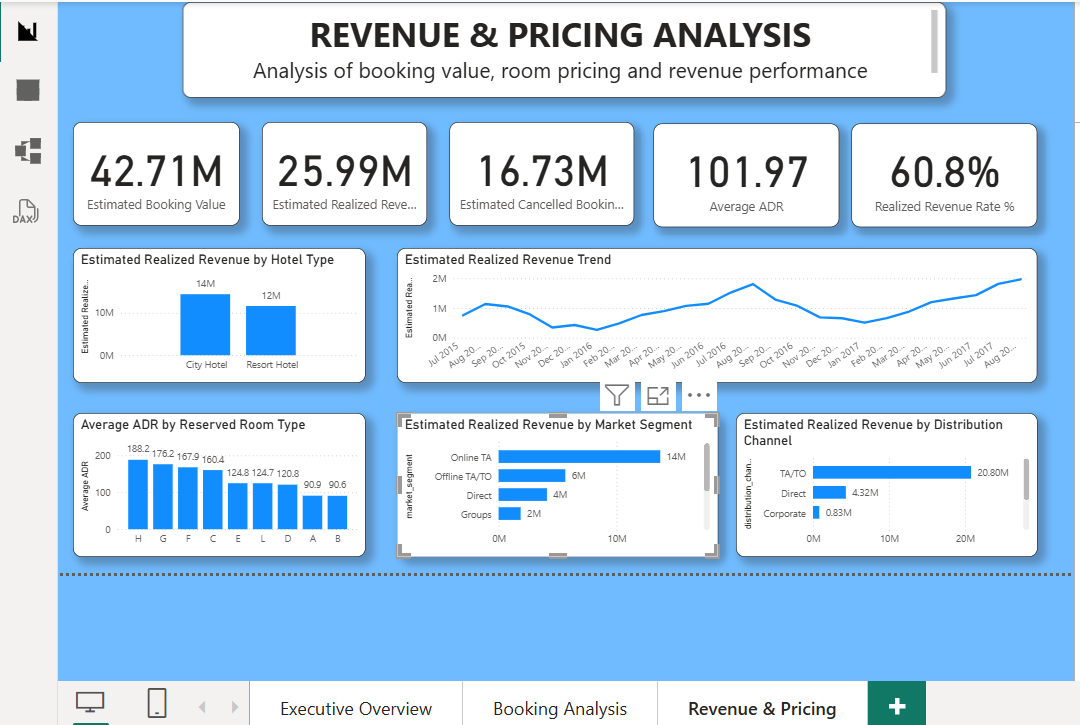

This screenshot's page, from the dashboard's own definition file:
{"tool":"powerbi","page":{"name":"Revenue & Pricing","canvas":[1280,720],"ordinal":2},"visuals":[{"type":"textbox","box":[156.9,0,961.9,120.9],"z":0},{"type":"card","fields":{"Values":["DimCountry.Estimated Revenue"]},"box":[18.9,151.2,209.8,130.4],"z":1},{"type":"card","fields":{"Values":["DimCountry.Estimated Realized Revenue"]},"box":[257,151.2,207.9,130.4],"z":2},{"type":"card","fields":{"Values":["DimCountry.Estimated Cancelled Booking Value"]},"box":[493.2,151.2,232.4,130.4],"z":3},{"type":"card","fields":{"Values":["FactBookings.Average ADR"]},"box":[750.2,153.1,234.3,130.4],"z":4},{"type":"clusteredColumnChart","title":"Estimated Realized Revenue by Hotel Type","fields":{"Category":["DimHotel.hotel"],"Y":["DimCountry.Estimated Realized Revenue"]},"box":[18.9,309.9,368.5,170.1],"z":5},{"type":"clusteredColumnChart","title":"Average ADR by Reserved Room Type","fields":{"Category":["DimRoomType.reserved_room_type"],"Y":["FactBookings.Average ADR"]},"box":[18.9,517.8,368.5,181.4],"z":6},{"type":"lineChart","title":"Estimated Realized Revenue Trend","fields":{"Category":["DimDate.Year - Month"],"Y":["DimCountry.Estimated Realized Revenue"]},"box":[427.1,309.9,806.9,170.1],"z":7},{"type":"clusteredBarChart","title":"Estimated Realized Revenue by Market Segment","fields":{"Category":["DimMarketSegment.market_segment"],"Y":["DimCountry.Estimated Realized Revenue"]},"box":[427.1,517.8,404.4,181.4],"z":8},{"type":"clusteredBarChart","title":"Estimated Realized Revenue by Distribution Channel","fields":{"Category":["DimDistributionChannel.distribution_channel"],"Y":["DimCountry.Estimated Realized Revenue"]},"box":[854.2,517.8,379.8,181.4],"z":9},{"type":"card","fields":{"Values":["DimCountry.Realized Revenue Rate %"]},"box":[999.7,153.1,234.3,130.4],"z":10}]}

Visuals, with their boxes on the page's 1280x720 design canvas (x1, y1, x2, y2). These are canvas units, not pixel positions in the 1080x725 screenshot, which may show the page scaled, cropped or inside an application window:
textbox: <region>157, 0, 1119, 121</region>
card - DimCountry.Estimated Revenue: <region>19, 151, 229, 282</region>
card - DimCountry.Estimated Realized Revenue: <region>257, 151, 465, 282</region>
card - DimCountry.Estimated Cancelled Booking Value: <region>493, 151, 726, 282</region>
card - FactBookings.Average ADR: <region>750, 153, 984, 284</region>
"Estimated Realized Revenue by Hotel Type" clusteredColumnChart: <region>19, 310, 387, 480</region>
"Average ADR by Reserved Room Type" clusteredColumnChart: <region>19, 518, 387, 699</region>
"Estimated Realized Revenue Trend" lineChart: <region>427, 310, 1234, 480</region>
"Estimated Realized Revenue by Market Segment" clusteredBarChart: <region>427, 518, 832, 699</region>
"Estimated Realized Revenue by Distribution Channel" clusteredBarChart: <region>854, 518, 1234, 699</region>
card - DimCountry.Realized Revenue Rate %: <region>1000, 153, 1234, 284</region>
